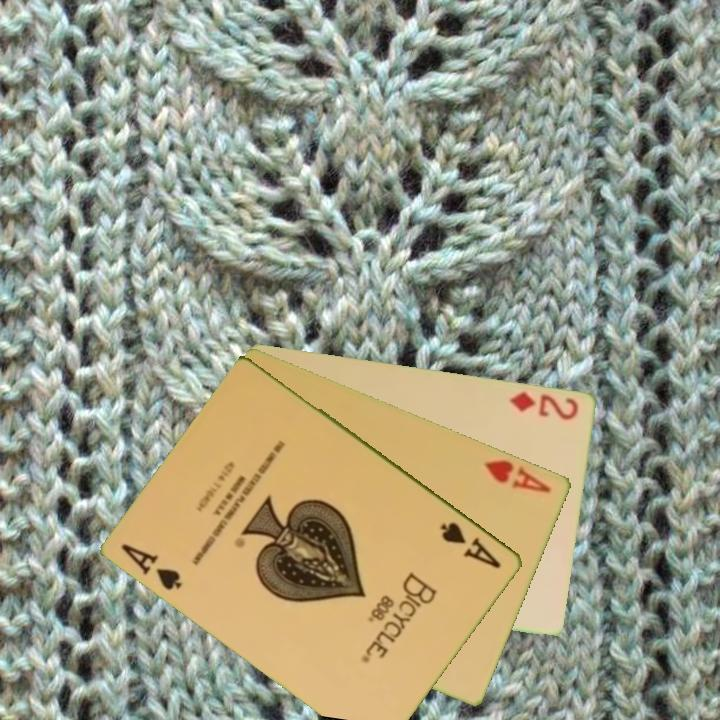2d: (507, 387, 582, 423)
Ah: (481, 455, 555, 496)
As: (437, 518, 505, 572), (118, 540, 186, 593)
